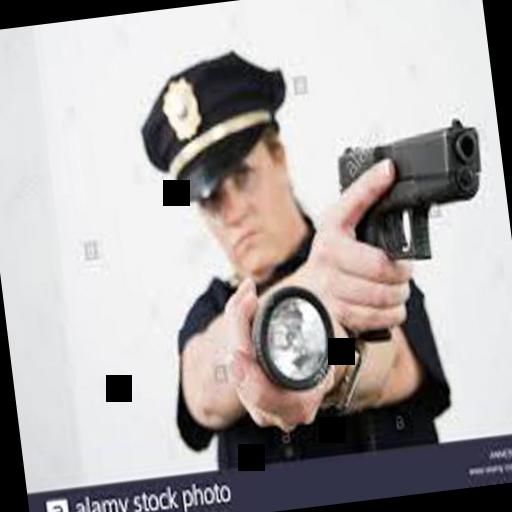Handgun: (330, 114, 506, 350)
